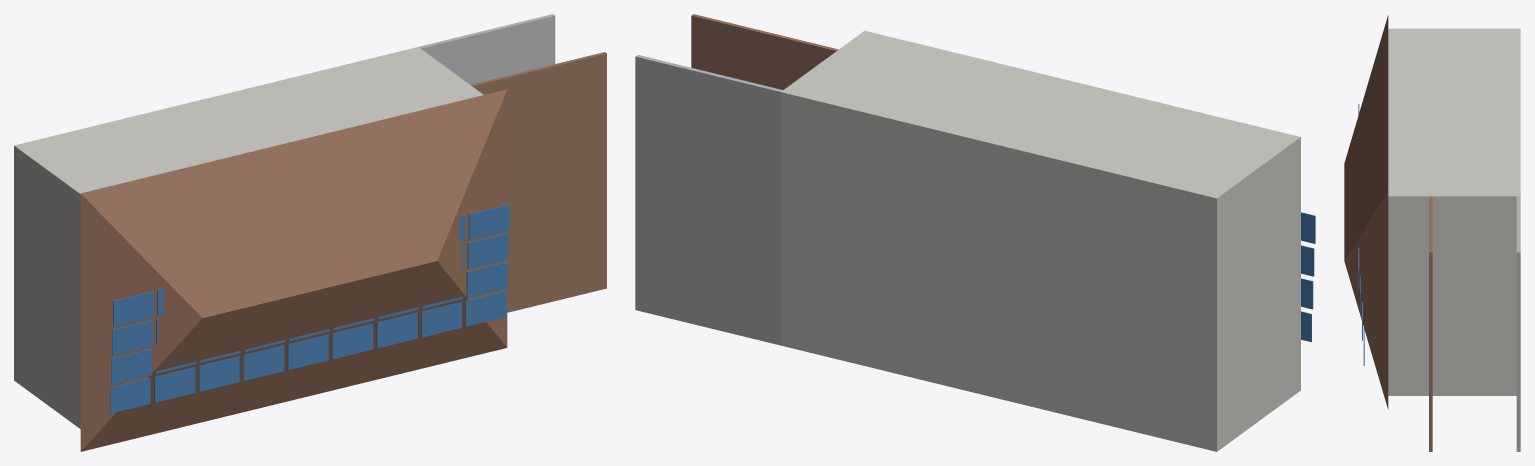
Rendered from generated_220360252d.glb.
The picture shows the model from 3 angles, left to right: view 1: azimuth 30°, elevation 25°; view 2: azimuth 150°, elevation 25°; view 3: azimuth 270°, elevation 25°; orthographic projection. The views are drawn at different scales.
Parts seen in each view (by area): view 1: hip_roof, house_body, front_porch_roof, front_porch_slab, solar_panel_8, solar_panel_26, solar_panel_35, solar_panel_17, solar_panel_5, solar_panel_1, solar_panel_2, solar_panel_4 (+7 smaller); view 2: house_body, front_porch_slab, front_porch_roof; view 3: house_body, hip_roof, front_porch_slab, front_porch_roof.
Part boxes in pixels (<box>): hip_roof: <box>80,89,507,451</box>; house_body: <box>14,47,483,428</box>; front_porch_roof: <box>470,52,606,312</box>; front_porch_slab: <box>418,14,555,84</box>; solar_panel_8: <box>465,291,506,326</box>; solar_panel_26: <box>467,233,508,268</box>; solar_panel_35: <box>468,204,509,240</box>; solar_panel_17: <box>466,262,507,297</box>; solar_panel_5: <box>332,323,373,359</box>; solar_panel_1: <box>154,367,195,402</box>; solar_panel_2: <box>198,356,239,391</box>; solar_panel_4: <box>287,334,328,370</box>; house_body: <box>781,30,1300,451</box>; front_porch_slab: <box>635,55,782,345</box>; front_porch_roof: <box>691,14,838,89</box>; house_body: <box>1388,28,1520,395</box>; hip_roof: <box>1344,15,1388,409</box>; front_porch_slab: <box>1516,196,1520,451</box>; front_porch_roof: <box>1429,196,1432,451</box>.
Bounding box in the file's own units: 24.5 × 11 × 8.
